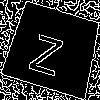Z: (27, 24, 68, 77)
